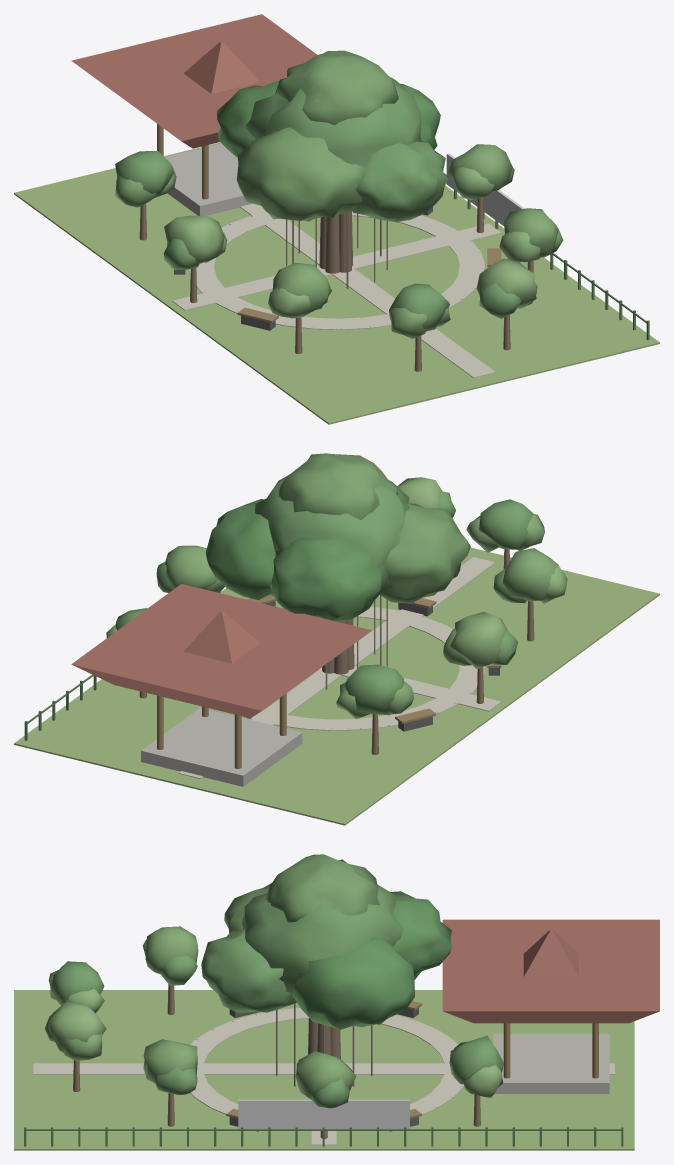
File: lm_alun.glb
3 renders of one model, top to bottom at view 1: azimuth 30°, elevation 25°; view 2: azimuth 150°, elevation 25°; view 3: azimuth 270°, elevation 25°, orthographic.
Parts seen in each view (by area): view 1: main; view 2: main; view 3: main.
Part boxes in pixels (left/top/right/bottom): main: left=14, top=14, right=659, bottom=424; main: left=14, top=453, right=659, bottom=825; main: left=14, top=854, right=659, bottom=1150.
Bounding box in the file's own units: 14.4 × 8.26 × 23.32.
